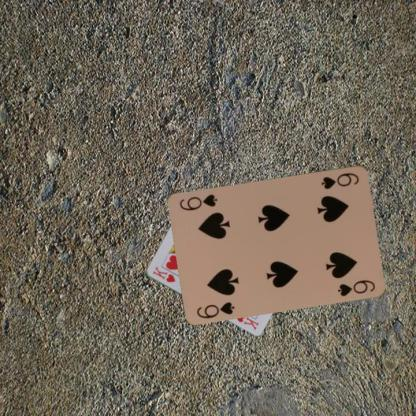6s: (194, 298, 236, 320), (318, 170, 361, 190)
Kh: (150, 264, 176, 284)
